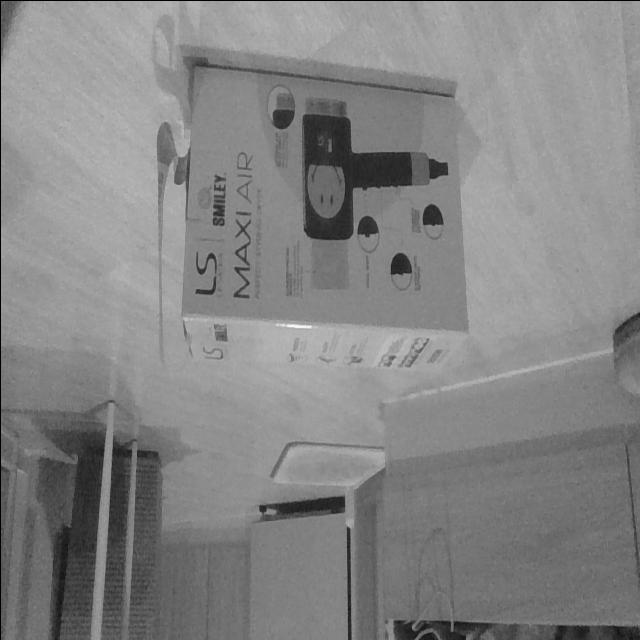Dryer: (178, 61, 470, 377)
